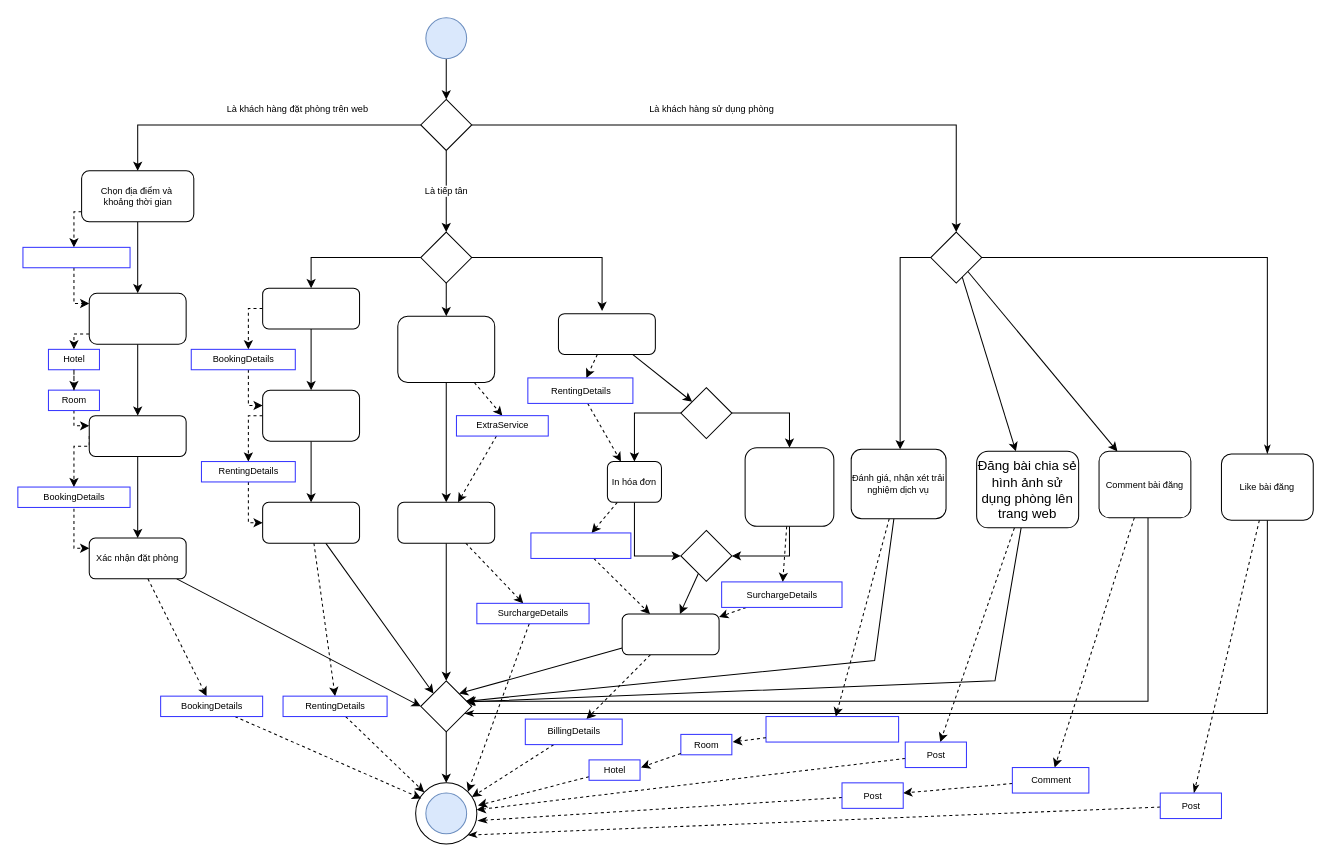
Image size: 1331x862. Some labels were removed from this diagram. The shapes that lost their labels are listed below. From the top down, each one's box as (x1, y1, x2, y2) in pixels, then its label:
(22, 246, 130, 268): SearchingDetails
(88, 292, 186, 344): Xem kết quả tìm kiếm và chọn phòng
(262, 287, 360, 329): Check-in
(397, 315, 495, 382): Ghi nhận thêm dịch vụ cho khách hàng
(557, 313, 655, 354): Check-out
(262, 389, 360, 441): Lưu lại thông tin trên CMND của khách
(88, 415, 186, 456): Hoàn tất thông tin đặt phòng
(744, 447, 834, 526): Xác nhận trả phòng và dịch vụ thêm
(262, 501, 360, 543): Xác nhận thuê phòng
(397, 501, 495, 543): Xác nhận tính thêm tiền
(530, 532, 631, 558): RetingDetails
(621, 613, 719, 655): Thanh toán
(765, 716, 899, 742): RoomServiceRating
